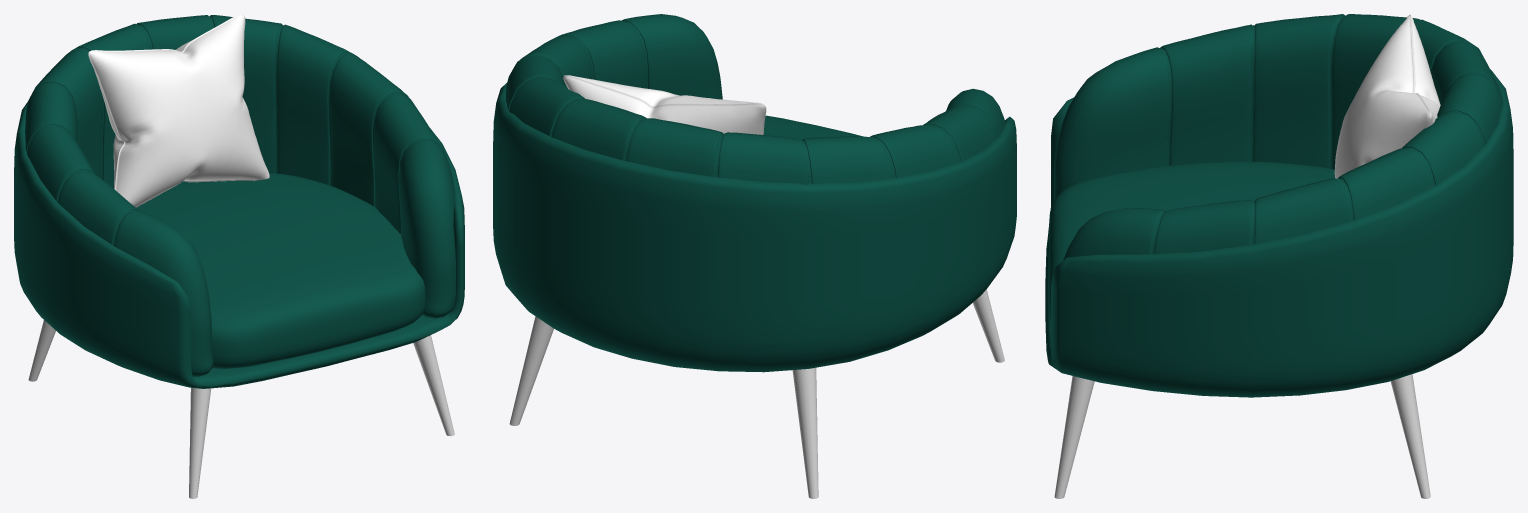
The model's file is chair-transformed.glb.
3 renders of one model, left to right at view 1: azimuth 30°, elevation 25°; view 2: azimuth 150°, elevation 25°; view 3: azimuth 270°, elevation 25°, orthographic. The views are drawn at different scales.
Visible parts, largest first — view 1: Object_4, Object_12, Object_10; view 2: Object_4, Object_12, Object_10; view 3: Object_4, Object_12, Object_10.
Part boxes in pixels (<box>): Object_4: <box>14,15,464,388</box>; Object_12: <box>88,14,269,207</box>; Object_10: <box>28,320,454,498</box>; Object_4: <box>493,14,1016,372</box>; Object_12: <box>563,75,766,134</box>; Object_10: <box>509,289,1004,498</box>; Object_4: <box>1045,14,1513,397</box>; Object_12: <box>1334,14,1440,178</box>; Object_10: <box>1054,374,1430,498</box>.
Bounding box in the file's own units: 1.69 × 1.39 × 1.6.
